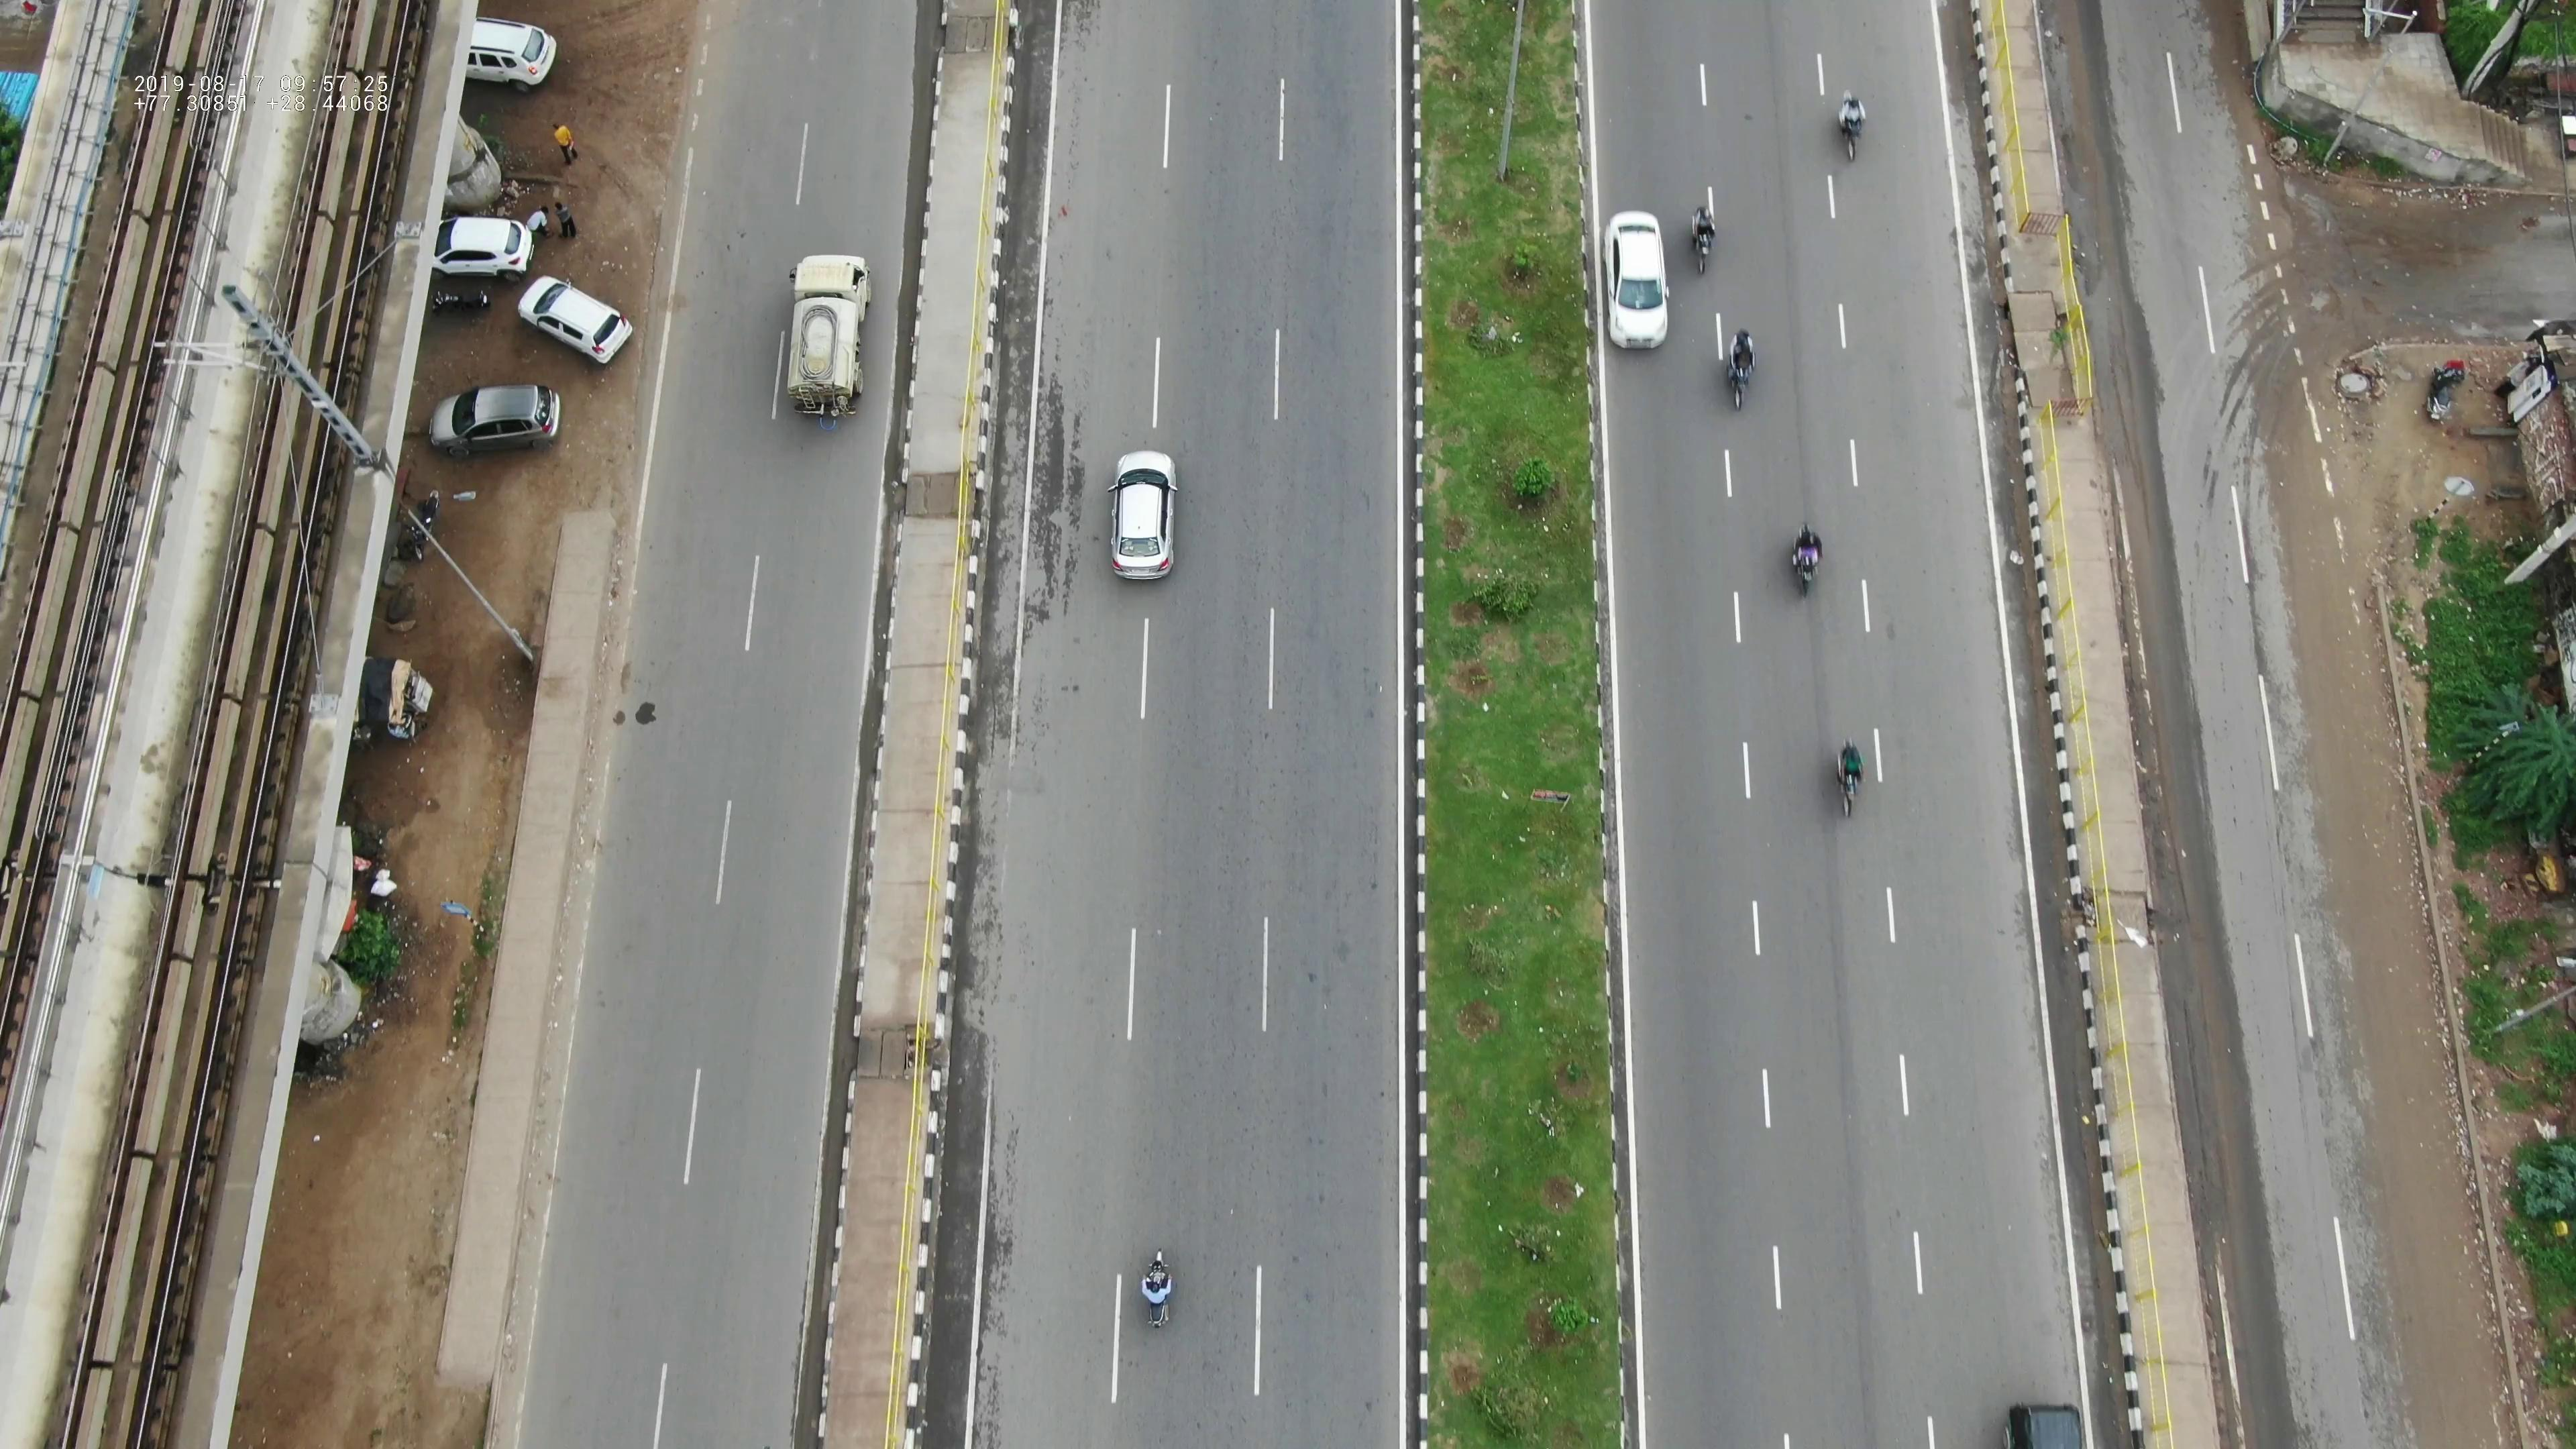Muddy_road: (2277, 626, 2420, 828), (2273, 384, 2387, 614), (2365, 1037, 2477, 1263)
